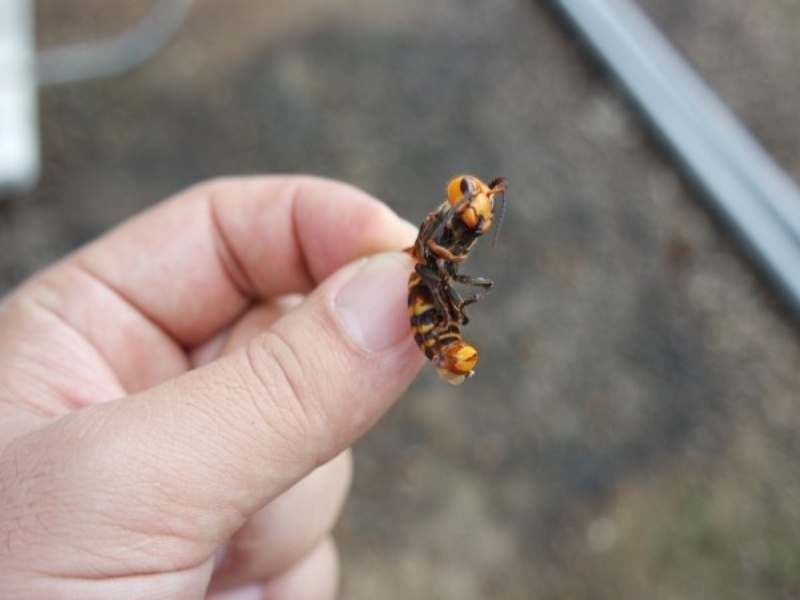asian_giant_hornet: (405, 168, 513, 384)
